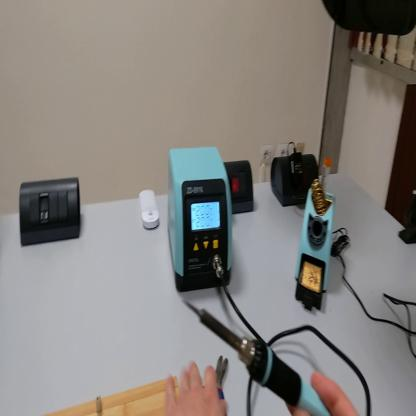hand: (164, 363, 231, 416), (287, 371, 358, 415)
pliers: (205, 352, 234, 403)
socket: (270, 156, 322, 208), (225, 162, 257, 215)
welder base: (293, 149, 336, 321)
welder probe tip: (182, 296, 328, 415)
welder station: (164, 149, 236, 297)
working area: (45, 375, 191, 416)
